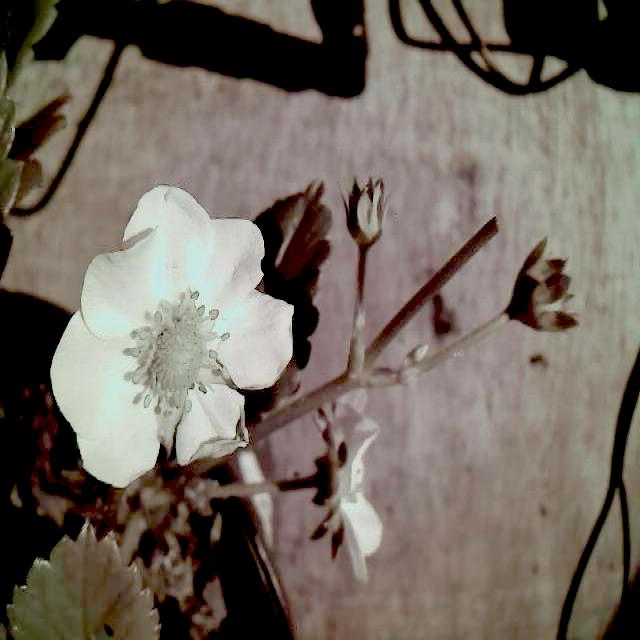flower: (48, 182, 294, 492), (302, 379, 392, 589)
